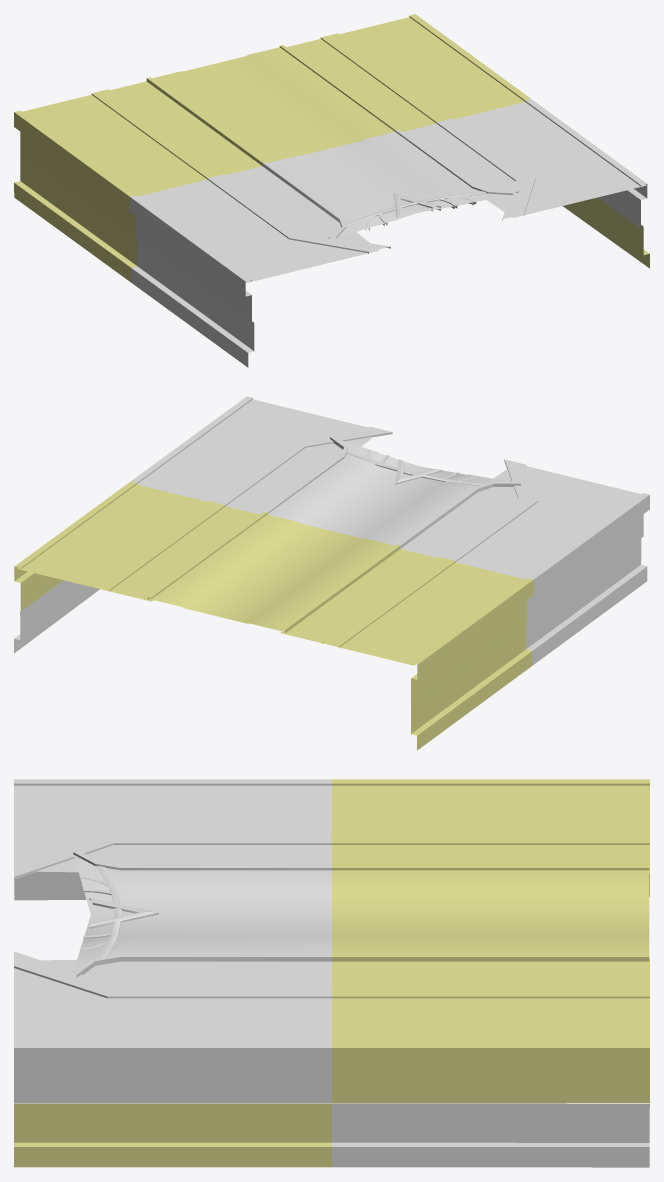
File: SM_bossroomloadjone.fbx
3 views of the same model, one above another, from view 1: azimuth 30°, elevation 25°; view 2: azimuth 150°, elevation 25°; view 3: azimuth 270°, elevation 25° (orthographic). The views are drawn at different scales.
Visible parts, largest first — view 1: SM_bossroomroad; view 2: SM_bossroomroad; view 3: SM_bossroomroad.
Boxes of the visible parts, x1,y1,x2,y2 form: SM_bossroomroad: (14, 14, 649, 367); SM_bossroomroad: (14, 396, 649, 750); SM_bossroomroad: (14, 779, 649, 1167).
Bounding box in the file's own units: 1510 × 317 × 1501.
